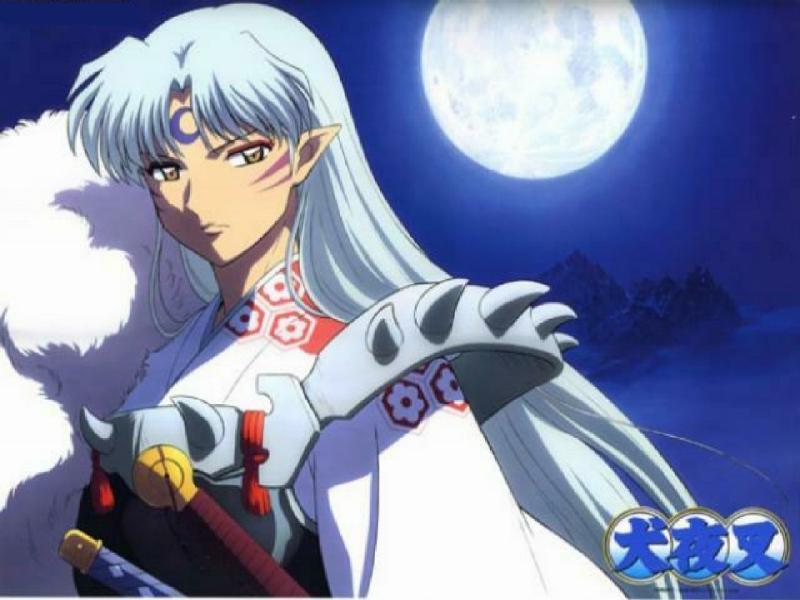sesshomaru: (69, 4, 372, 334)
